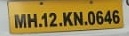character: (13, 13, 26, 29), (61, 10, 73, 26), (26, 12, 37, 28), (72, 10, 83, 25), (48, 11, 57, 27), (111, 9, 120, 24), (40, 11, 48, 27), (87, 10, 95, 25), (95, 9, 103, 24), (103, 9, 111, 24)
